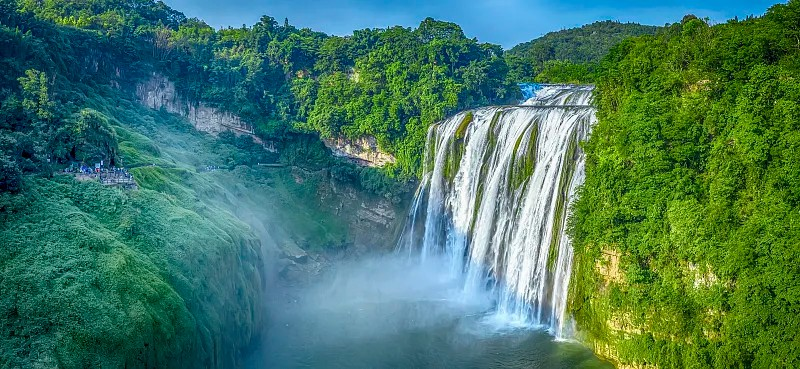Huangguoshu: (409, 82, 599, 341)
